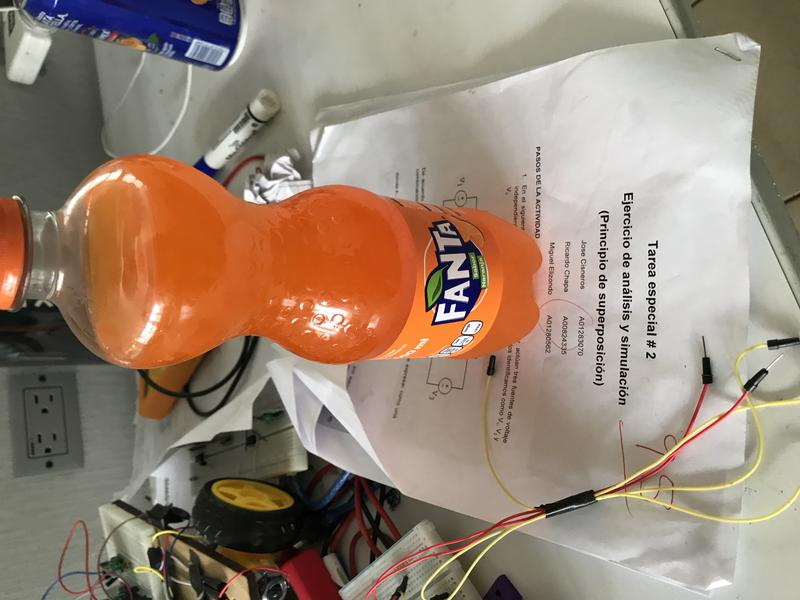fanta: (1, 155, 543, 369)
